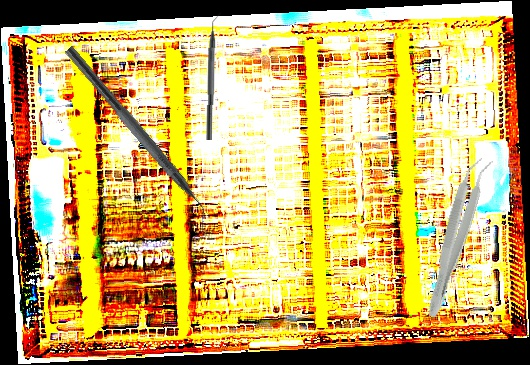Chopper: (52, 45, 220, 232), (205, 12, 224, 141)
Tissue Forceps: (421, 153, 495, 322)
